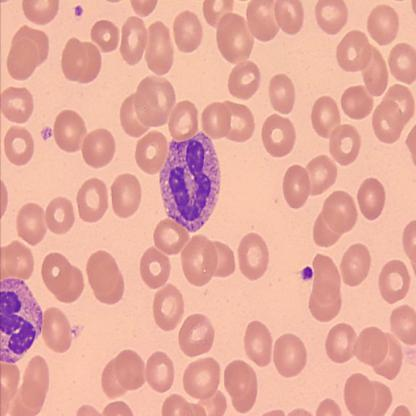Band Neutrophil: (156, 127, 224, 236)
